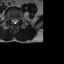CCS_stenosis: (13, 18, 15, 25)
LFS_normal: (18, 17, 20, 23)
LLS_normal: (15, 18, 17, 24)
RFS_stenosis: (9, 17, 11, 22)
RLS_normal: (11, 17, 13, 25)
